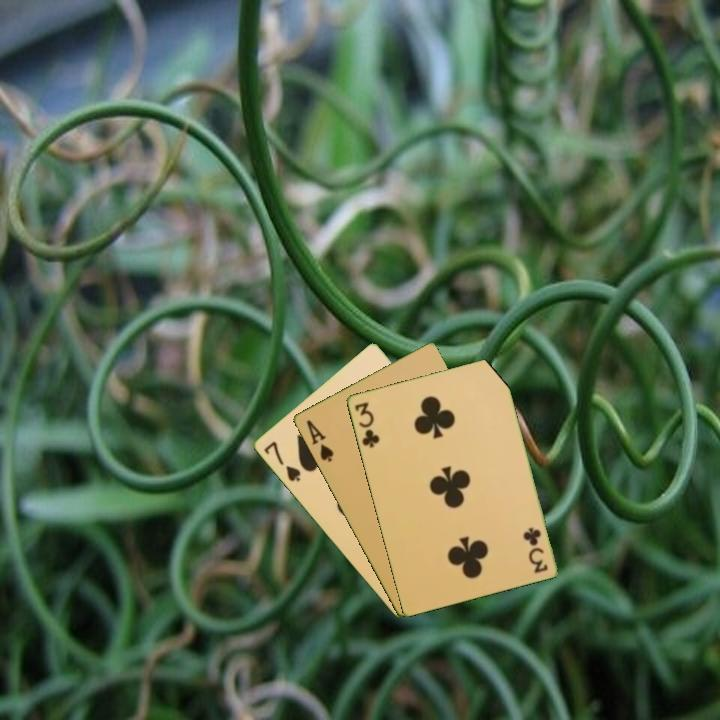3c: (351, 398, 382, 451), (521, 524, 550, 576)
7s: (260, 438, 303, 485)
As: (302, 416, 336, 465)
